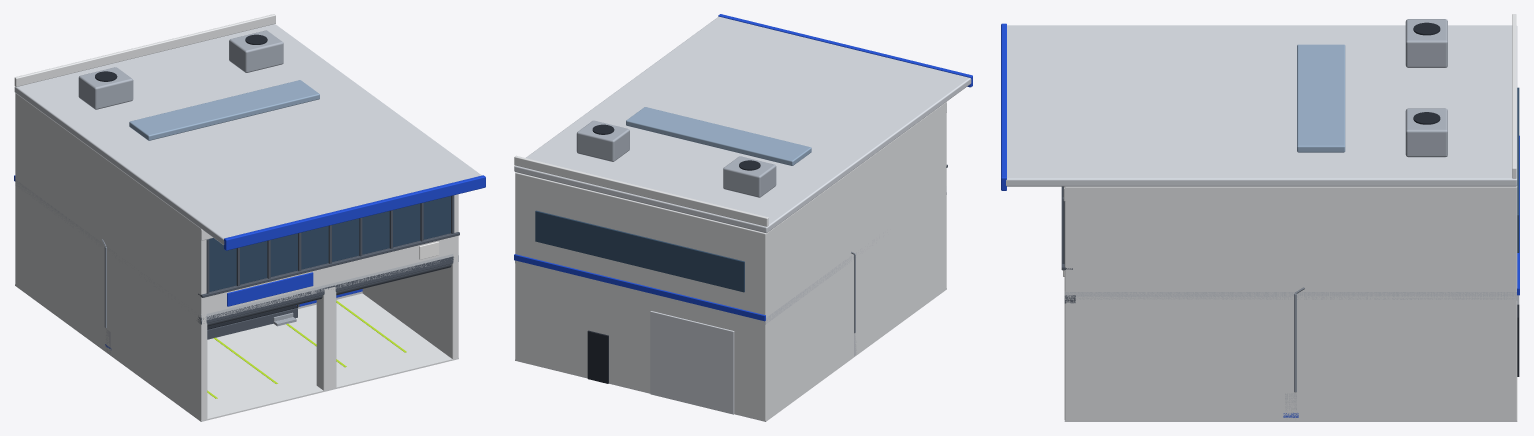
File: pitlane.glb
3 views of the same model, side by side, from view 1: azimuth 30°, elevation 25°; view 2: azimuth 150°, elevation 25°; view 3: azimuth 270°, elevation 25° (orthographic). The views are drawn at different scales.
Visible parts, largest first — view 1: garage_halvard_shell, stand_halvard_body, garage_halvard, pit_wall_body, garage_halvard_interior; view 2: garage_halvard_shell; view 3: garage_halvard_shell, pit_wall_body.
Part boxes in pixels (x1=…): garage_halvard_shell: x1=14, y1=14, x2=485, y2=421; stand_halvard_body: x1=207, y1=304, x2=299, y2=339; garage_halvard: x1=207, y1=264, x2=451, y2=326; pit_wall_body: x1=102, y1=239, x2=362, y2=353; garage_halvard_interior: x1=207, y1=300, x2=406, y2=398; garage_halvard_shell: x1=514, y1=14, x2=972, y2=421; garage_halvard_shell: x1=1001, y1=14, x2=1519, y2=421; pit_wall_body: x1=1283, y1=287, x2=1304, y2=419.
Size of the model in its own units: 12.1 by 9.95 by 17.18.
